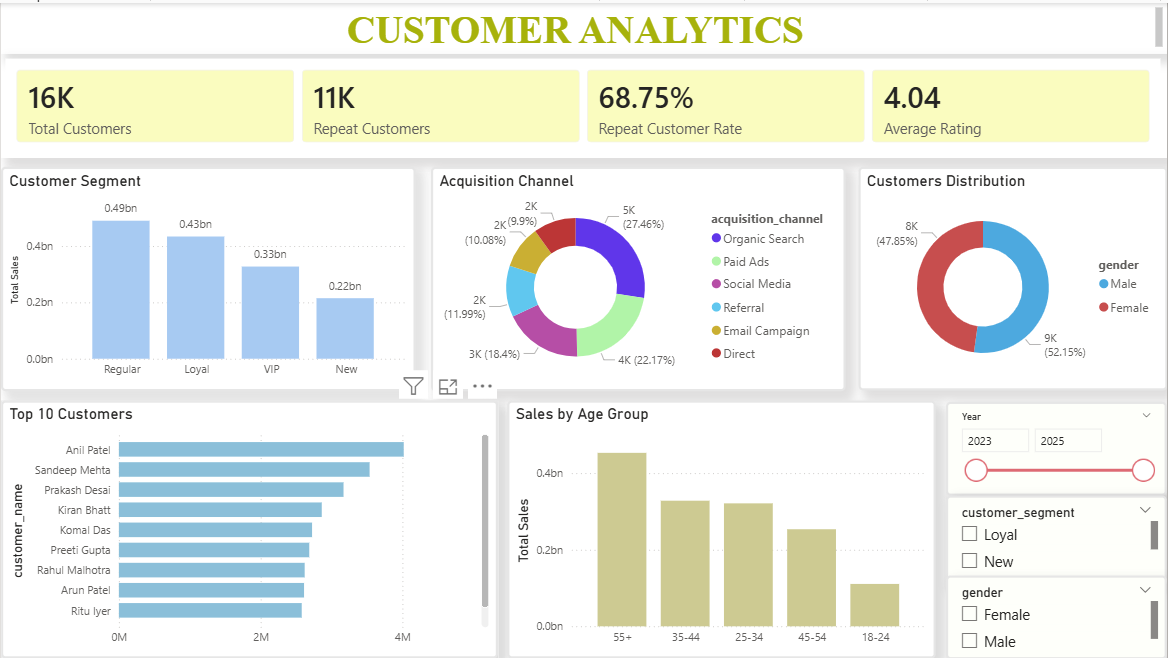

Layout of this report page (visuals, bound fields, positions):
{"tool":"powerbi","page":{"name":"Page 4","canvas":[1280,720],"ordinal":3},"visuals":[{"type":"textbox","box":[0,0,1280.3,56.4],"z":0},{"type":"cardVisual","fields":{"Data":["Measure.Total Customers","Measure.Repeat Customers","Measure.Repeat Customer Rate","Measure.Average Rating"]},"box":[0,56.4,1280.3,114.1],"z":1000},{"type":"clusteredColumnChart","title":"Customer Segment","fields":{"Category":["customers.customer_segment"],"Y":["Measure.Total Sales"]},"box":[0,180.1,455.2,246.2],"z":2000},{"type":"donutChart","title":"Acquisition Channel","fields":{"Category":["customers.acquisition_channel"],"Y":["Measure.Total Customers"]},"box":[471.7,180.1,455.2,246.2],"z":3000},{"type":"donutChart","title":"Customers Distribution","fields":{"Category":["customers.gender"],"Y":["Measure.Total Customers"]},"box":[941.3,179.8,338.9,245.6],"z":4000},{"type":"clusteredBarChart","title":"Top 10 Customers","fields":{"Category":["customers.customer_name"],"Y":["Measure.Total Sales"]},"box":[0,436.7,545.9,283.3],"z":5000},{"type":"columnChart","title":"Sales by Age Group","fields":{"Y":["Measure.Total Sales"],"Category":["customers.Age Group"]},"box":[555.6,436.7,470.3,283.3],"z":6000},{"type":"slicer","fields":{"Values":["DateTable.Year"]},"box":[1038,437.3,242,103.1],"z":7000},{"type":"slicer","fields":{"Values":["customers.customer_segment"]},"box":[1038,540.4,242,99],"z":8000},{"type":"slicer","fields":{"Values":["customers.gender"]},"box":[1038,627.9,242,92.1],"z":9000}]}

Visuals, with their boxes in screenshot pixels (x1, y1, x2, y2), scaled from the page's 1280x720 canvas onto the 1168x658 screenshot:
textbox: bbox=(0, 0, 1167, 52)
cardVisual - Measure.Total Customers x Measure.Repeat Customers: bbox=(0, 52, 1167, 156)
"Customer Segment" clusteredColumnChart: bbox=(0, 165, 415, 390)
"Acquisition Channel" donutChart: bbox=(430, 165, 846, 390)
"Customers Distribution" donutChart: bbox=(859, 164, 1167, 389)
"Top 10 Customers" clusteredBarChart: bbox=(0, 399, 498, 657)
"Sales by Age Group" columnChart: bbox=(507, 399, 936, 657)
slicer - DateTable.Year: bbox=(947, 400, 1167, 494)
slicer - customers.customer_segment: bbox=(947, 494, 1167, 584)
slicer - customers.gender: bbox=(947, 574, 1167, 657)
